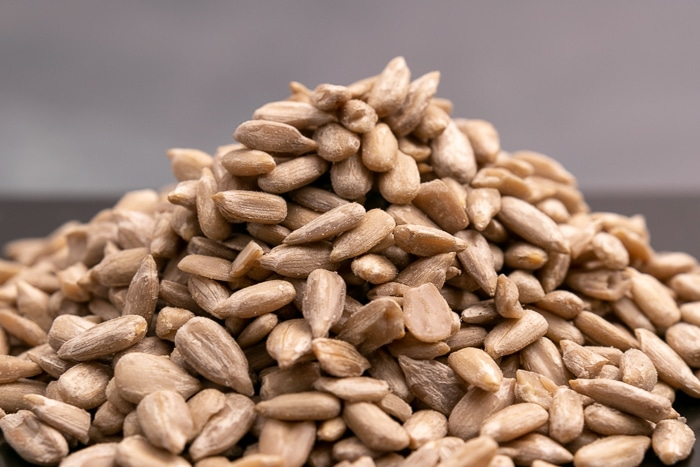seed: (1, 224, 700, 467), (130, 50, 578, 225)
